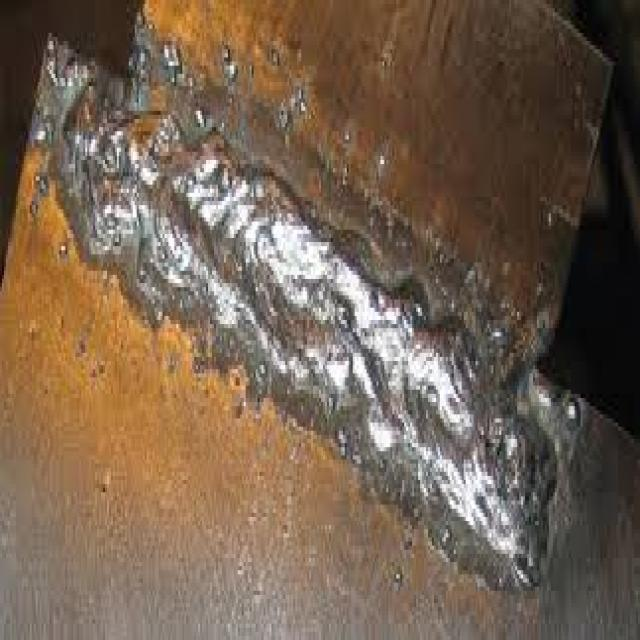Bad Welding: (36, 53, 563, 611)
